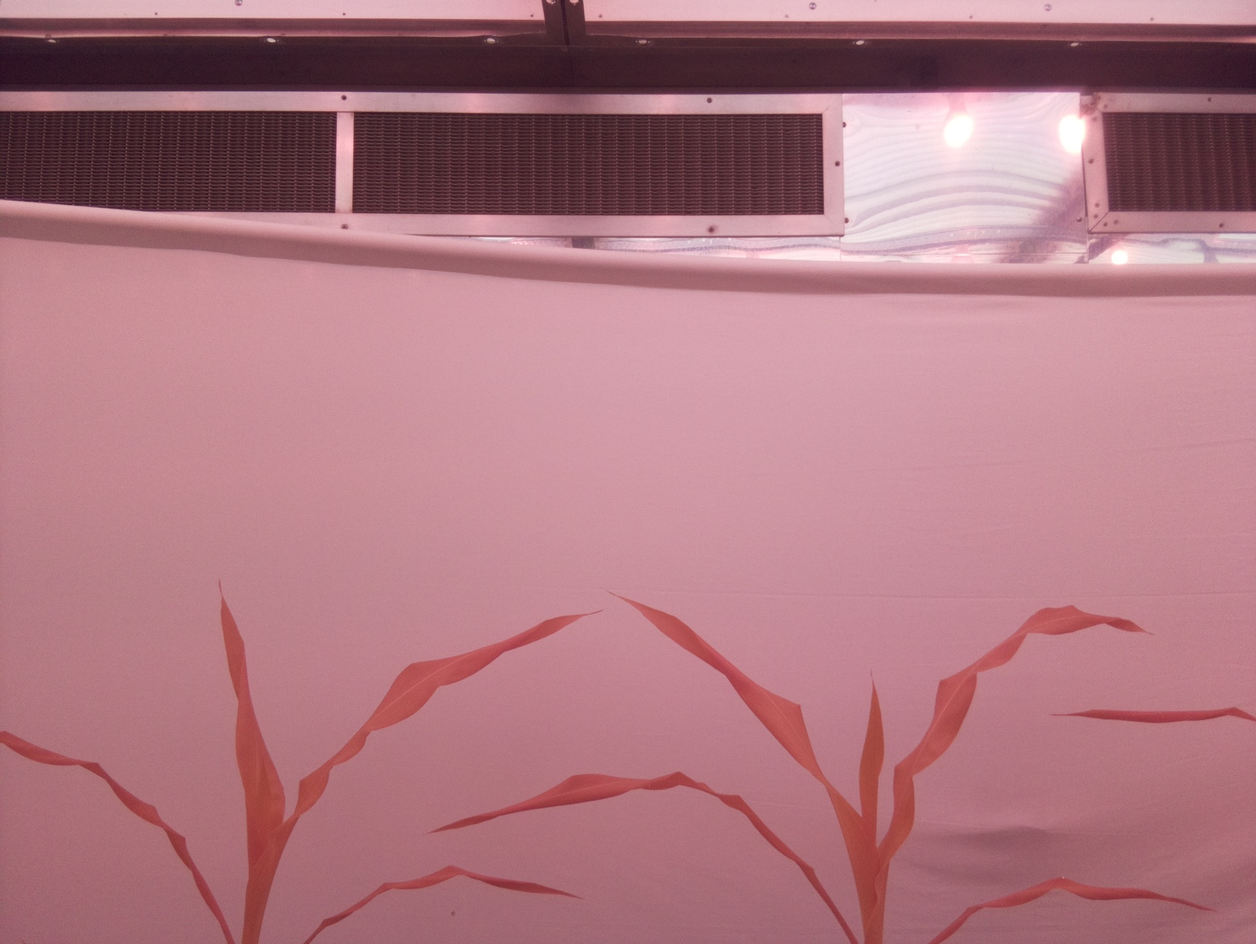maize: (424, 591, 1213, 944), (1, 579, 606, 944)
